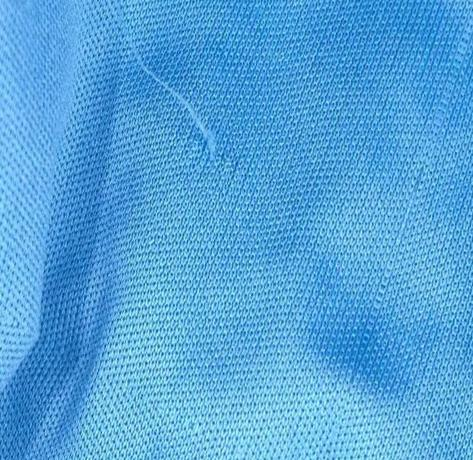snag: (129, 52, 232, 172)
